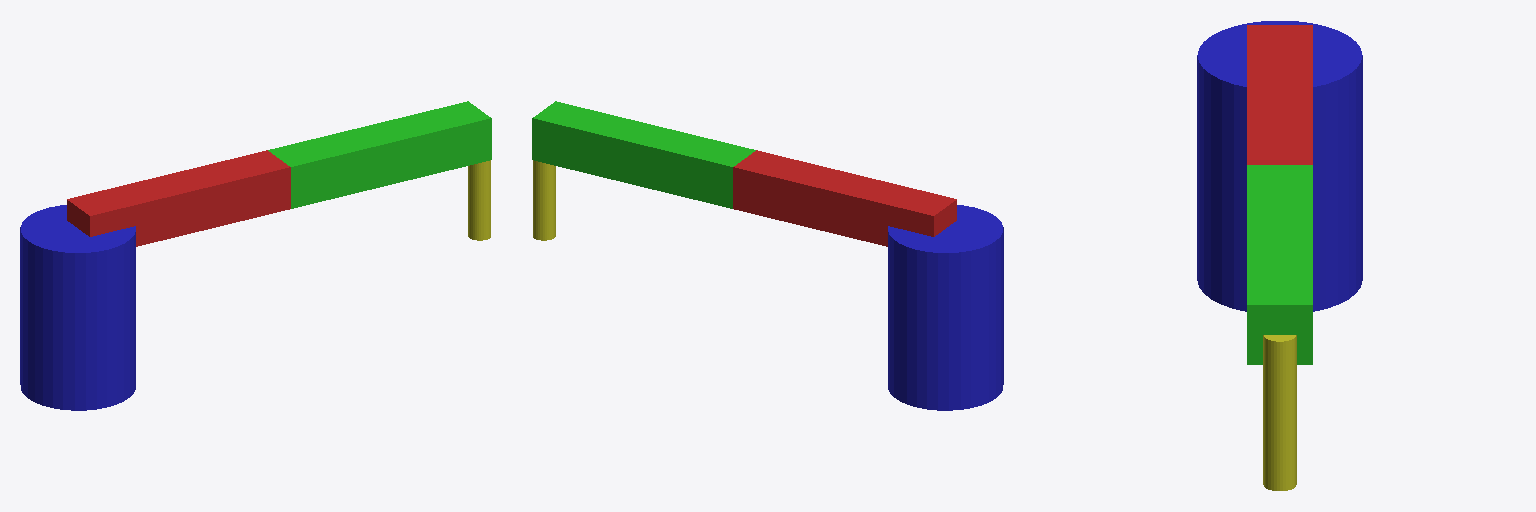
URDF robot description (manipulador_scara_4dof):
<?xml version="1.0"?>
<robot name="manipulador_scara_4dof">

  <!-- Colores -->
  <material name="blue"><color rgba="0.2 0.2 0.8 1"/></material>
  <material name="red"><color rgba="0.8 0.2 0.2 1"/></material>
  <material name="green"><color rgba="0.2 0.8 0.2 1"/></material>
  <material name="yellow"><color rgba="0.8 0.8 0.2 1"/></material>

  <!-- Mundo -->
  <link name="world"/>

  <!-- 1. BASE (Rotacional) -->
  <joint name="joint1_base" type="revolute">
    <parent link="world"/>
    <child link="base_link"/>
    <origin xyz="0 0 0" rpy="0 0 0"/>
    <axis xyz="0 0 1"/>
    <limit lower="-3.1416" upper="3.1416" effort="10" velocity="1"/>
  </joint>

  <link name="base_link">
    <visual>
      <origin xyz="0 0 0.075" rpy="0 0 0"/>
      <geometry>
        <cylinder radius="0.05" length="0.15"/>
      </geometry>
      <material name="blue"/>
    </visual>
    <!-- Marca roja para ver la rotación de la base -->
    <visual>
      <origin xyz="0.05 0 0.14" rpy="0 0 0"/>
      <geometry>
        <box size="0.05 0.02 0.02"/>
      </geometry>
      <material name="red"/>
    </visual>
  </link>

  <!-- 2. BRAZO 1 (Rotacional) -->
  <joint name="joint2_arm1" type="revolute">
    <parent link="base_link"/>
    <child link="link1"/>
    <origin xyz="0 0 0.15" rpy="0 0 0"/>
    <axis xyz="0 0 1"/>
    <limit lower="-3.1416" upper="3.1416" effort="10" velocity="1"/>
  </joint>

  <link name="link1">
    <visual>
      <origin xyz="0.10 0 0" rpy="0 0 0"/>
      <geometry>
        <box size="0.20 0.04 0.04"/>
      </geometry>
      <material name="red"/>
    </visual>
  </link>

  <!-- 3. BRAZO 2 (Rotacional) -->
  <joint name="joint3_arm2" type="revolute">
    <parent link="link1"/>
    <child link="link2"/>
    <origin xyz="0.20 0 0" rpy="0 0 0"/>
    <axis xyz="0 0 1"/>
    <limit lower="-3.1416" upper="3.1416" effort="10" velocity="1"/>
  </joint>

  <link name="link2">
    <visual>
      <origin xyz="0.10 0 0" rpy="0 0 0"/>
      <geometry>
        <box size="0.20 0.04 0.04"/>
      </geometry>
      <material name="green"/>
    </visual>
  </link>

  <!-- 4. HERRAMIENTA (Prismática) -->
  <joint name="joint4_prismatic" type="prismatic">
    <parent link="link2"/>
    <child link="link3"/>
    <origin xyz="0.20 0 0" rpy="0 0 0"/>
    <axis xyz="0 0 1"/>
    <limit lower="-0.15" upper="0.0" effort="10" velocity="1"/>
  </joint>

  <link name="link3">
    <visual>
      <origin xyz="0 0 -0.05" rpy="0 0 0"/>
      <geometry>
        <cylinder radius="0.01" length="0.10"/>
      </geometry>
      <material name="yellow"/>
    </visual>
  </link>

</robot>

--- Render facts (derived) ---
The picture shows the robot from 3 angles, left to right: view 1: azimuth 30°, elevation 25°; view 2: azimuth 150°, elevation 25°; view 3: azimuth 270°, elevation 25°; orthographic projection.
Model manipulador_scara_4dof with 5 links and 4 joints (3 revolute, 1 prismatic), rooted at world, posed every joint at zero.
Visible links, largest first — view 1: base_link, link2, link1, link3; view 2: base_link, link2, link1, link3; view 3: base_link, link2, link1, link3.
Link boxes in pixels (bbox=[...]): base_link: bbox=[20, 205, 135, 410]; link2: bbox=[268, 101, 491, 208]; link1: bbox=[67, 150, 290, 246]; link3: bbox=[468, 160, 490, 240]; base_link: bbox=[888, 205, 1003, 410]; link2: bbox=[532, 101, 755, 208]; link1: bbox=[733, 150, 956, 246]; link3: bbox=[533, 160, 555, 240]; base_link: bbox=[1197, 21, 1362, 311]; link2: bbox=[1247, 165, 1312, 364]; link1: bbox=[1247, 25, 1312, 164]; link3: bbox=[1263, 335, 1296, 490].
Size in the robot's own frame: 0.46 by 0.1 by 0.17 metres.
Geometry: primitives only (box / cylinder / sphere), no mesh files.
